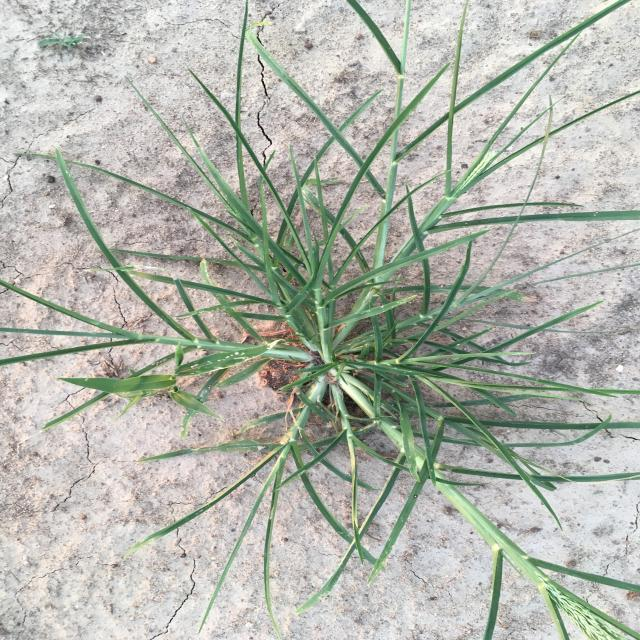Goosegrass: (1, 1, 639, 638)
